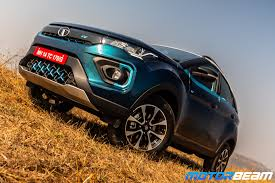Tata Nexon: (17, 18, 240, 173)
